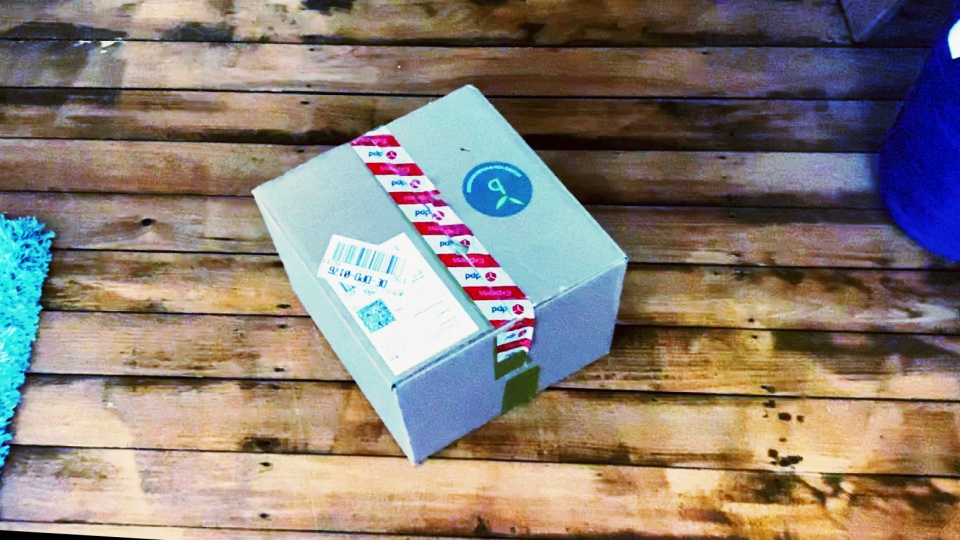good-parcel: (249, 81, 637, 473)
